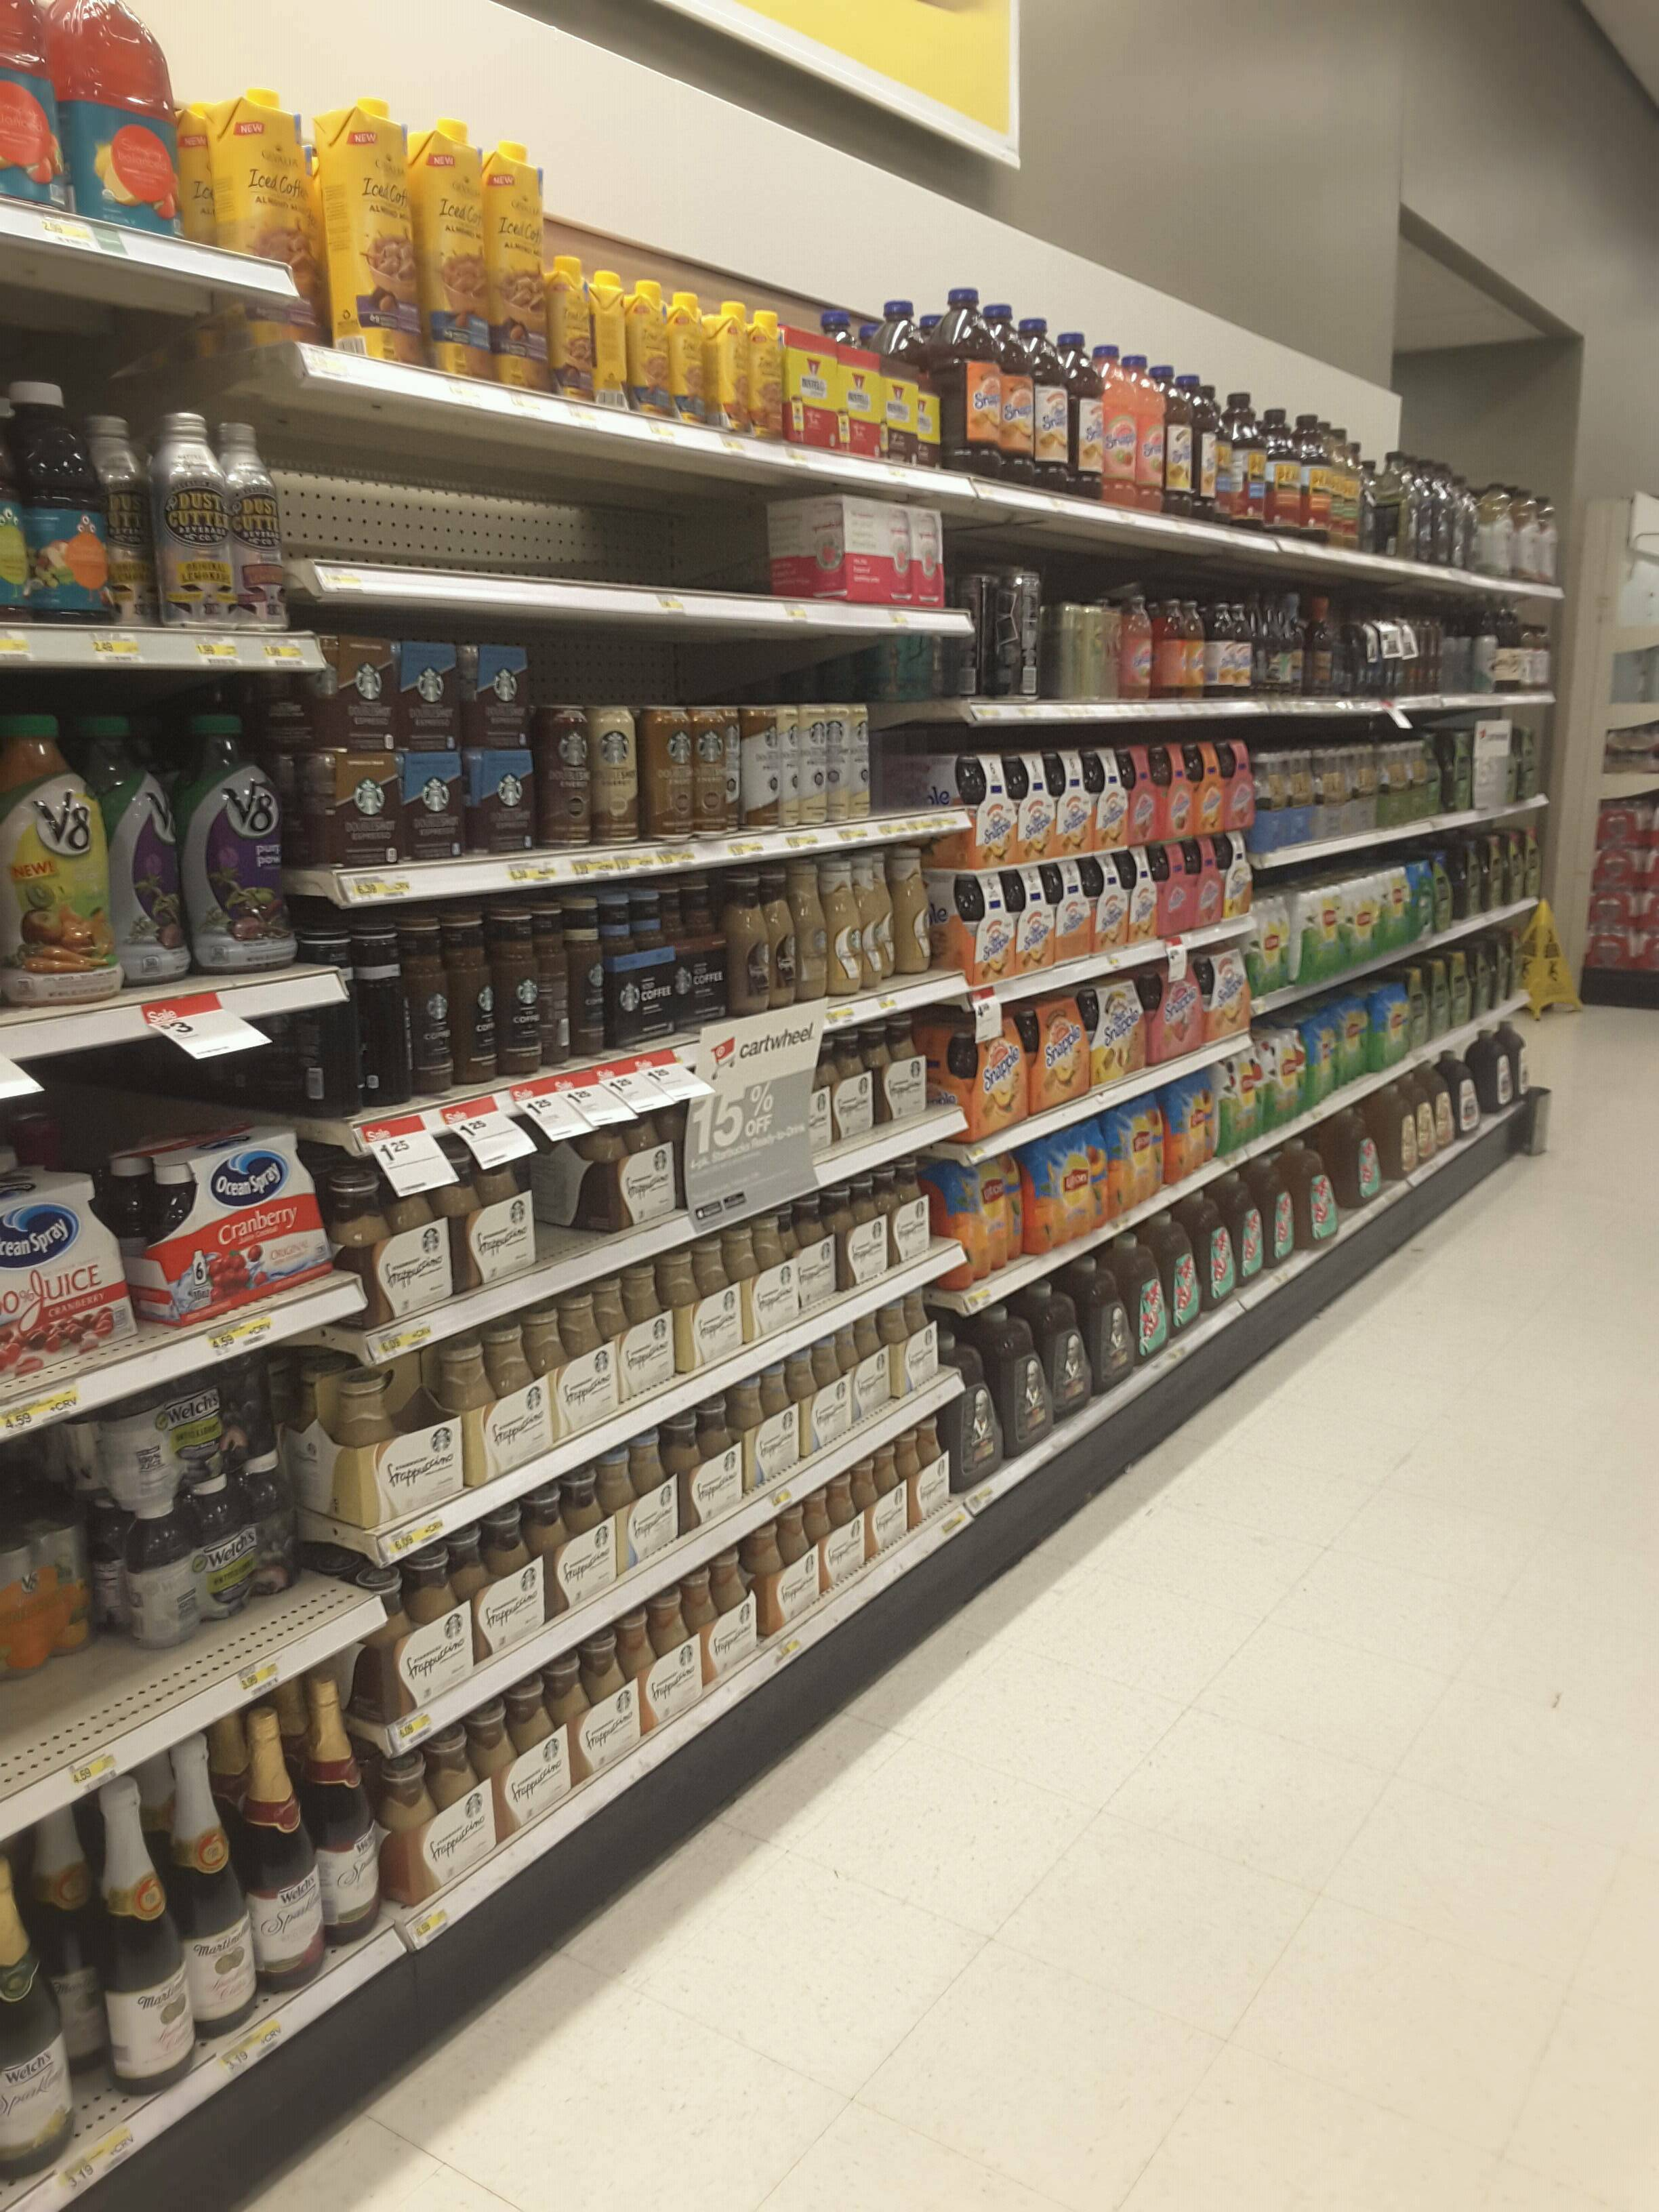Misplacement: (9, 1514, 103, 1789)
Out-of-stock: (268, 439, 784, 631), (525, 1137, 617, 1247), (877, 698, 943, 841)
